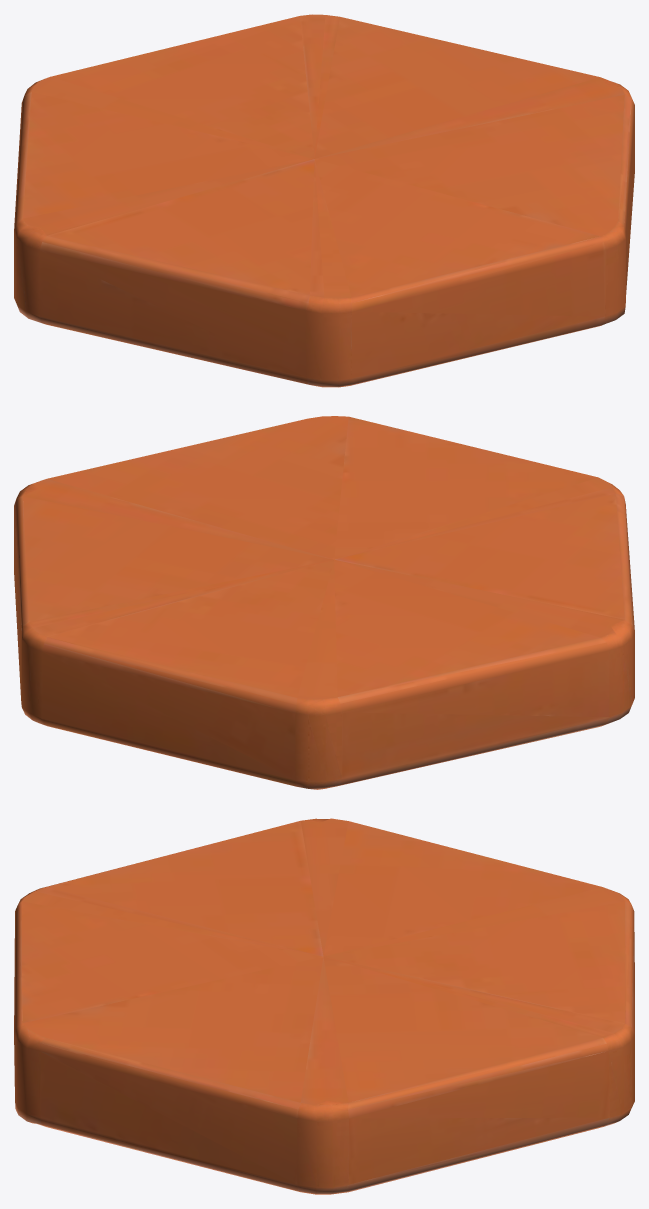
The model's file is tile-hills.glb.
3 renders of one model, top to bottom at view 1: azimuth 30°, elevation 25°; view 2: azimuth 150°, elevation 25°; view 3: azimuth 270°, elevation 25°, orthographic.
Bounding box in the file's own units: 0.9497 × 0.1343 × 0.8418.
Materials: 1 (1 with a texture image).
